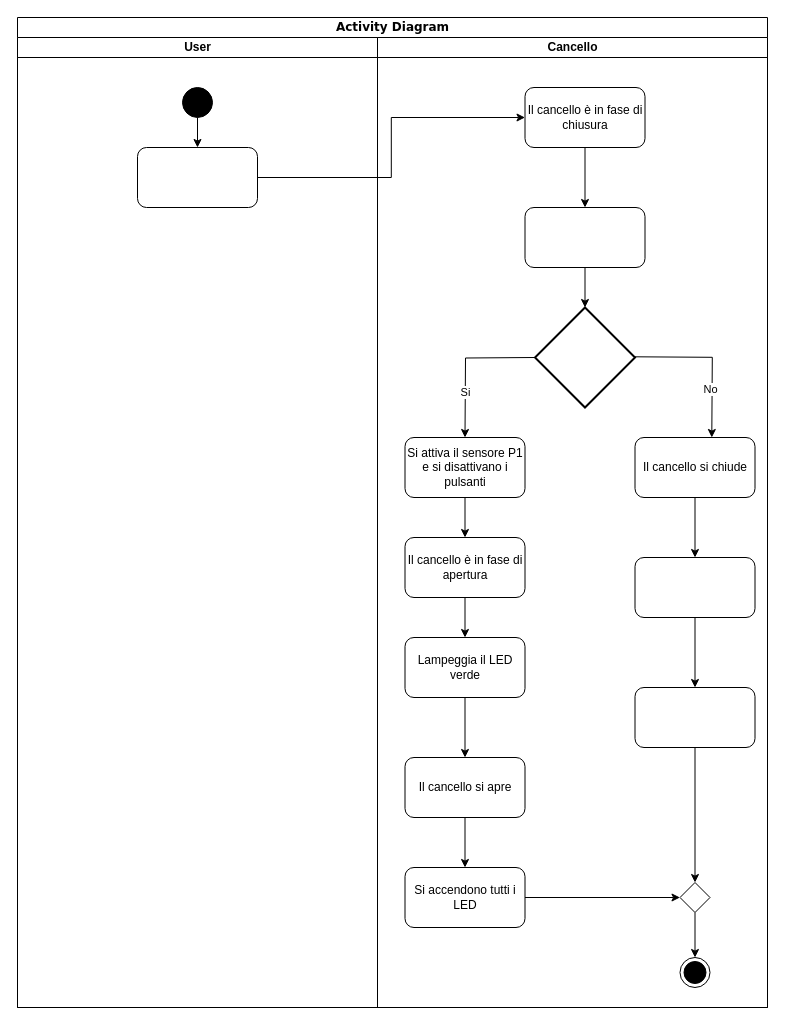
The diagram is 785 pixels wide and 1025 high, and some of its shapes have lost their labels. The shapes that lost their labels are listed below. From the top down, each one's centre as x and y in pixels, then its label:
the point at 197,177: Richiesta chiusura cancello
the point at 584,237: Lampeggia il LED giallo
the point at 585,357: Ostacolo Presente?
the point at 694,587: Si attiva il sensore di presenza P2
the point at 694,717: Si spengono tutti i LED
